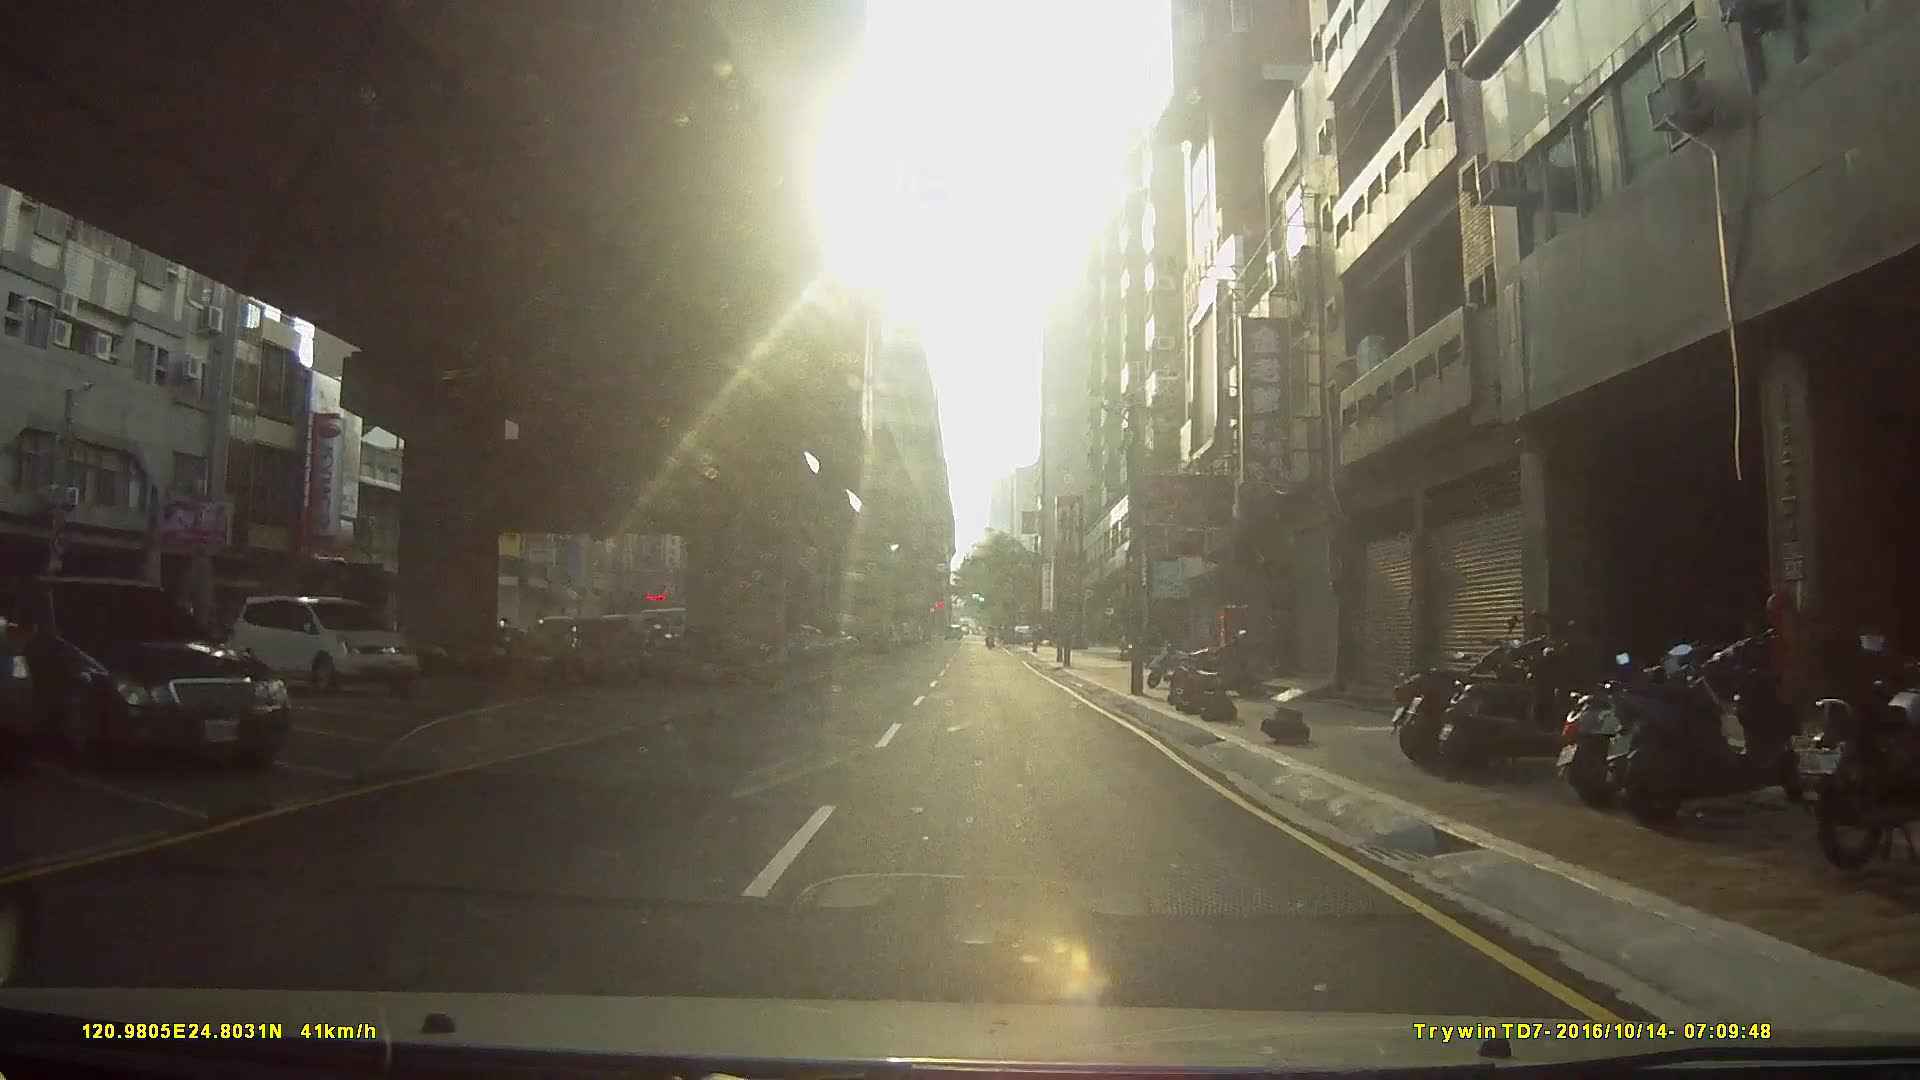vehicle: (0, 574, 293, 767), (228, 597, 418, 694), (0, 583, 47, 779)
